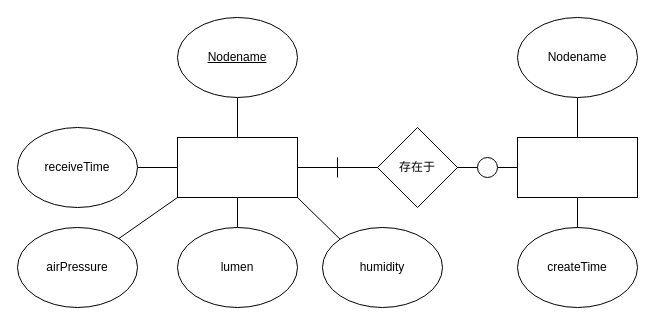
The diagram is 655 pixels wide and 325 high, and some of its shapes have lost their labels. Here are the shapes that lost their labels. From the top down, the box of each, then its label:
(176, 136, 298, 198): nodedata
(516, 136, 638, 198): nodestatus
